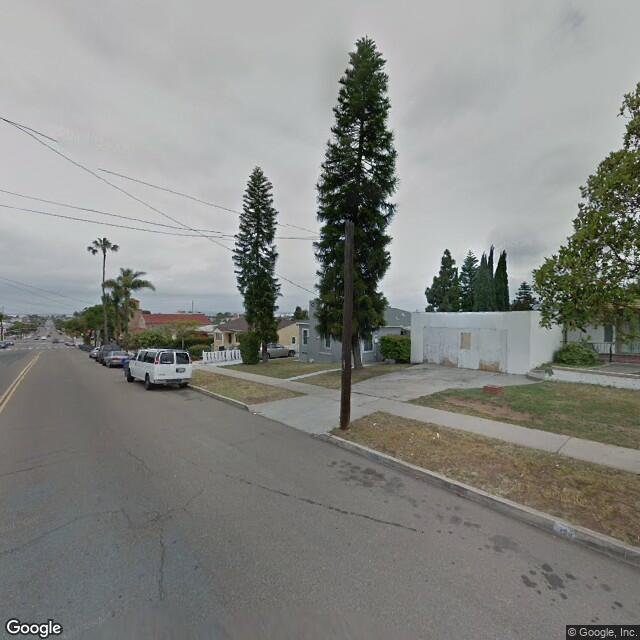litter: (431, 429, 452, 448), (547, 457, 567, 471), (363, 421, 388, 429)
